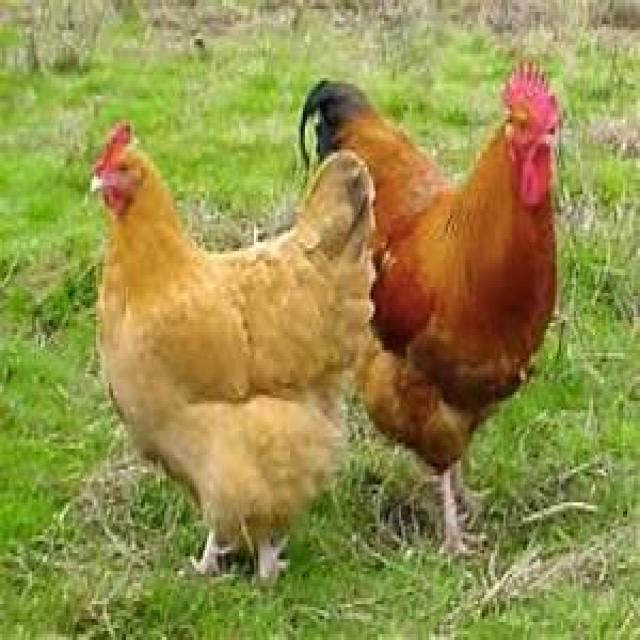hen: (95, 124, 374, 577), (301, 67, 560, 546)
